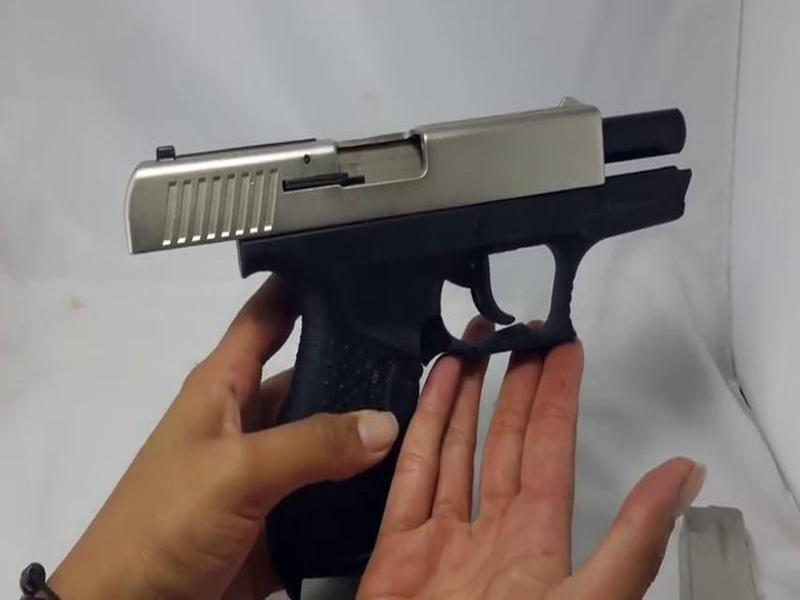Pistola: (122, 102, 715, 573)
